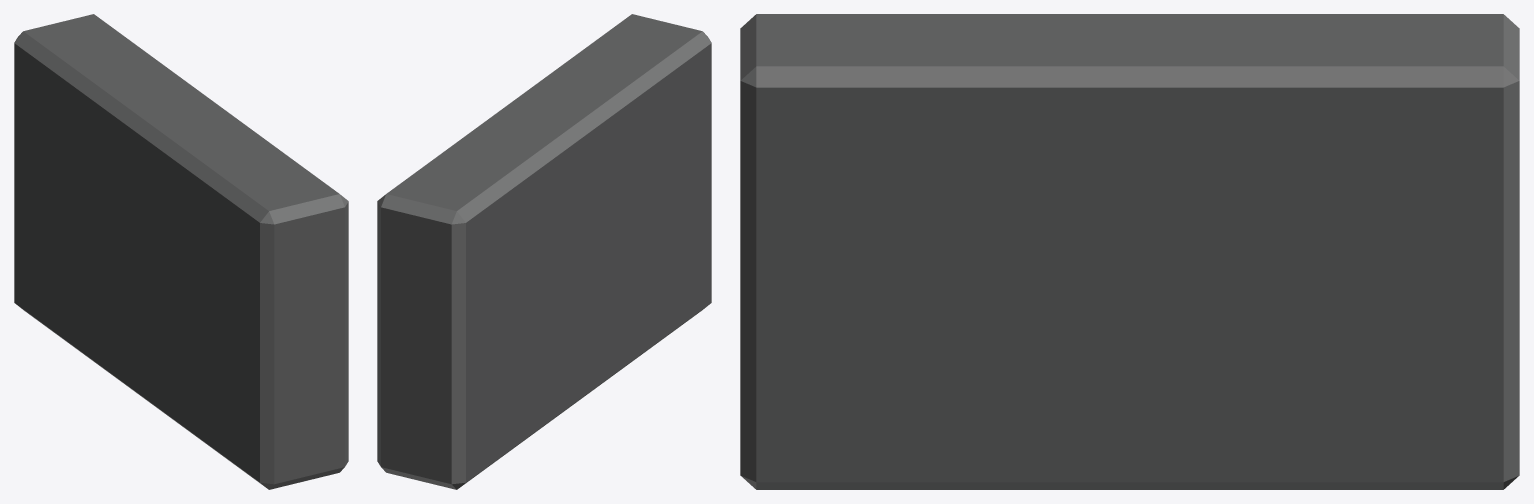
File: Wall_B_3_1.glb
The picture shows the model from 3 angles, left to right: view 1: azimuth 30°, elevation 25°; view 2: azimuth 150°, elevation 25°; view 3: azimuth 270°, elevation 25°; orthographic projection. The views are drawn at different scales.
Visible parts, largest first — view 1: Wall_B_3_1; view 2: Wall_B_3_1; view 3: Wall_B_3_1.
Part boxes in pixels (x1,y1,x2,y2): Wall_B_3_1: [14, 14, 348, 489]; Wall_B_3_1: [377, 14, 711, 489]; Wall_B_3_1: [740, 14, 1519, 489].
Size of the model in its own units: 0.4 by 1.2 by 2.
1 material, 1 textured.
